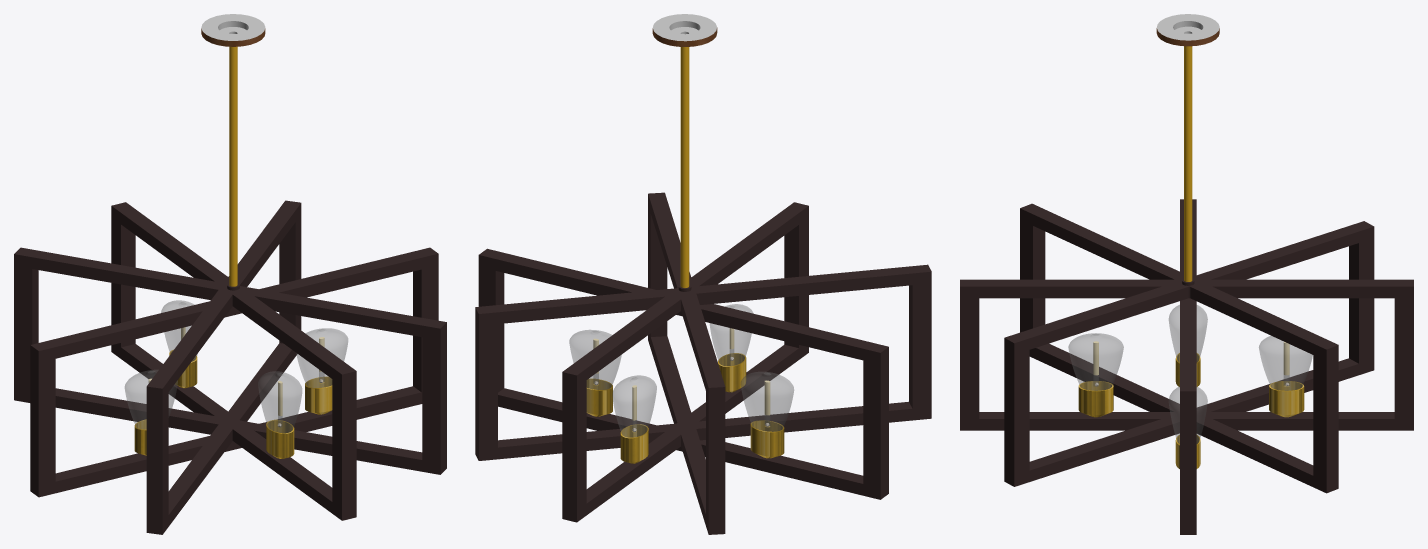
File: lamp_3.gltf
3 views of the same model, side by side, from view 1: azimuth 30°, elevation 25°; view 2: azimuth 150°, elevation 25°; view 3: azimuth 270°, elevation 25° (orthographic). The views are drawn at different scales.
Visible parts, largest first — view 1: root; view 2: root; view 3: root.
Part boxes in pixels (<box>): root: <box>14,14,446,534</box>; root: <box>475,14,931,534</box>; root: <box>960,14,1413,534</box>.
Bounding box in the file's own units: 0.7 × 0.7 × 0.7.
8 materials, 2 textured.
